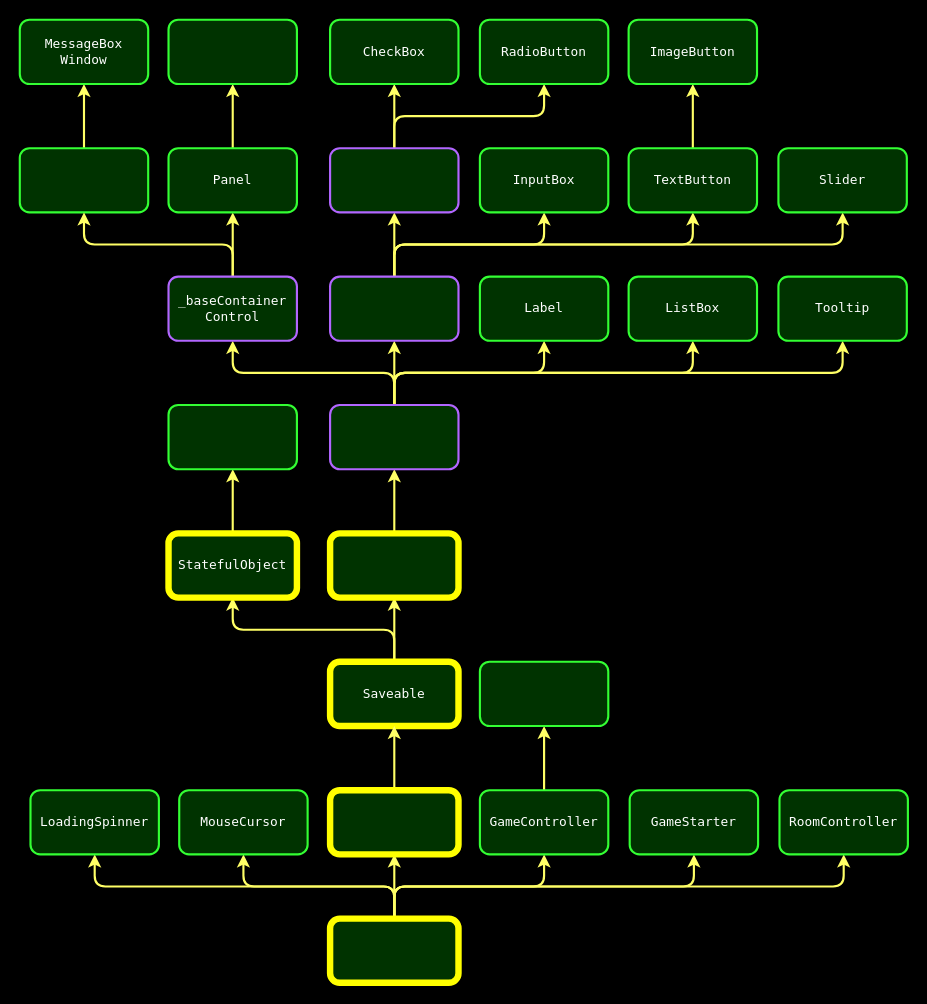
Image size: 927x1004. Some labels were removed from this diagram. Here are the shapes that lost their labels. From the top down, the centre of each, then its label:
[232,51]: UiRootPanel
[83,180]: Window
[393,180]: _baseCheckable Control
[393,308]: _baseClickable Control
[232,436]: OutlineObject
[393,436]: _baseControl
[393,565]: LGTextObject
[543,693]: Browser GameController
[393,821]: _raptorTooltip Base
[393,950]: _raptorBase
